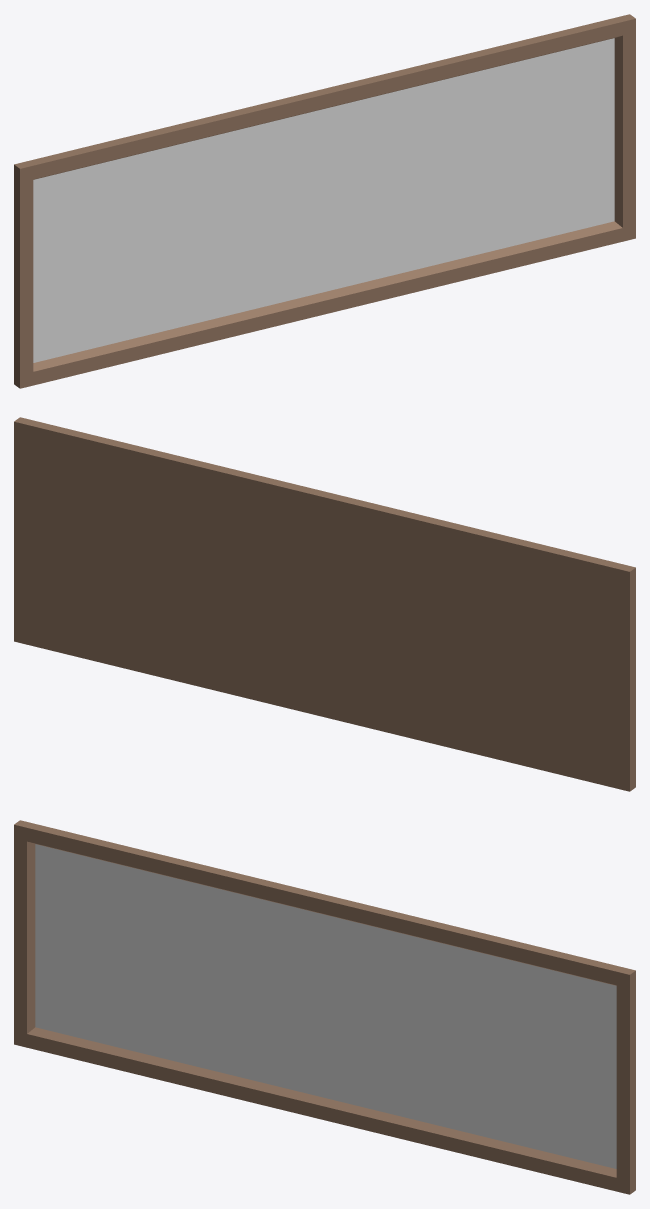
The model's file is Mirror.fbx.
3 views of the same model, one above another, from view 1: azimuth 30°, elevation 25°; view 2: azimuth 150°, elevation 25°; view 3: azimuth 330°, elevation 25° (orthographic).
Visible parts, largest first — view 1: Mirror; view 2: Mirror; view 3: Mirror.
Part boxes in pixels (x1,y1,x2,y2): Mirror: (14, 14, 635, 388); Mirror: (14, 417, 635, 791); Mirror: (14, 820, 635, 1194).
Bounding box in the file's own units: 885 × 302 × 15.2.
